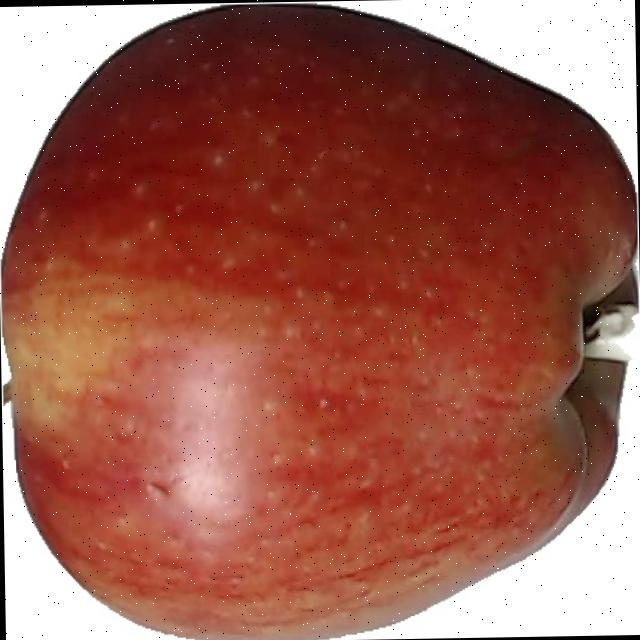apple: (2, 4, 636, 639)
